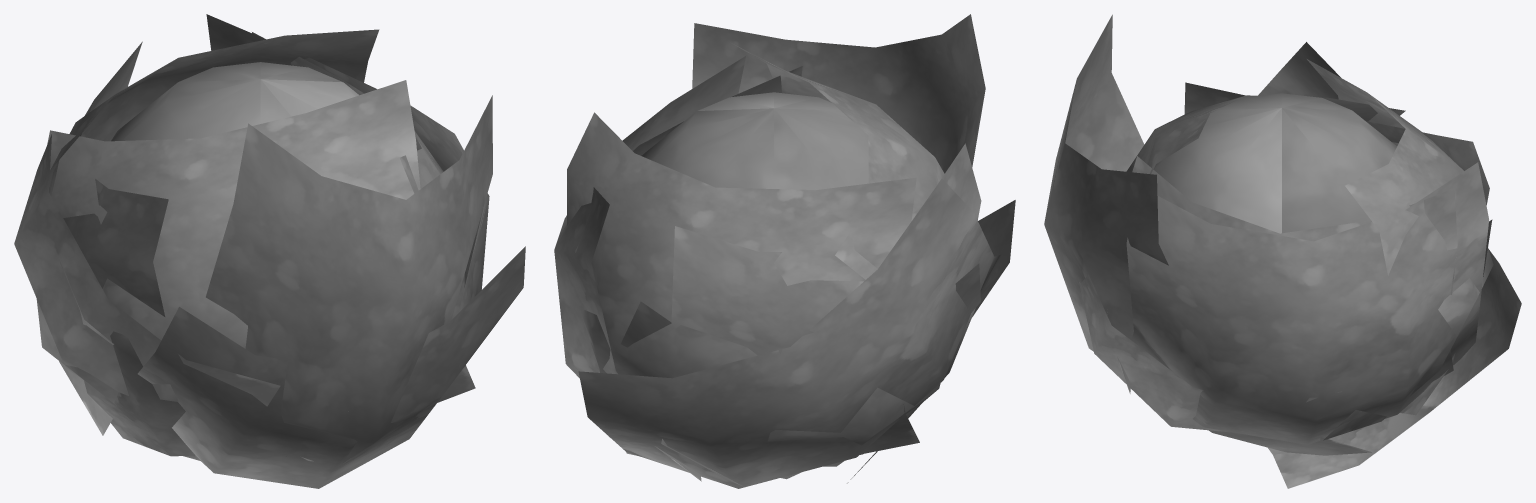
Rendered from SM_Cabbage_02a.fbx.
3 renders of one model, left to right at view 1: azimuth 30°, elevation 25°; view 2: azimuth 150°, elevation 25°; view 3: azimuth 270°, elevation 25°, orthographic. The views are drawn at different scales.
Visible parts, largest first — view 1: SM_Cabbage_02a_LOD0; view 2: SM_Cabbage_02a_LOD0; view 3: SM_Cabbage_02a_LOD0.
Boxes of the visible parts, x1,y1,x2,y2 form: SM_Cabbage_02a_LOD0: [14, 14, 525, 488]; SM_Cabbage_02a_LOD0: [554, 14, 1015, 488]; SM_Cabbage_02a_LOD0: [1044, 14, 1521, 488].
Size of the model in its own units: 48.17 by 56.3 by 49.08.
